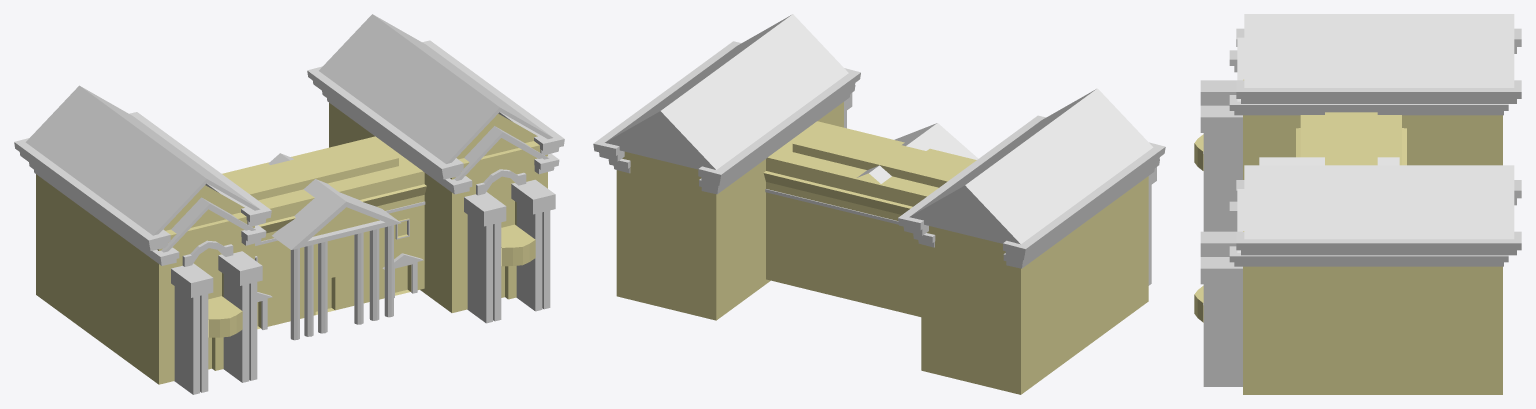
Rendered from casa luxuosa.fbx.
The picture shows the model from 3 angles, left to right: view 1: azimuth 30°, elevation 25°; view 2: azimuth 150°, elevation 25°; view 3: azimuth 270°, elevation 25°; orthographic projection. The views are drawn at different scales.
Visible parts, largest first — view 1: predio; view 2: predio; view 3: predio.
Part boxes in pixels (x1=…): predio: x1=14, y1=14, x2=564, y2=394; predio: x1=593, y1=14, x2=1165, y2=394; predio: x1=1194, y1=14, x2=1521, y2=394.
Size of the model in its own units: 2770 by 1235 by 1782.
